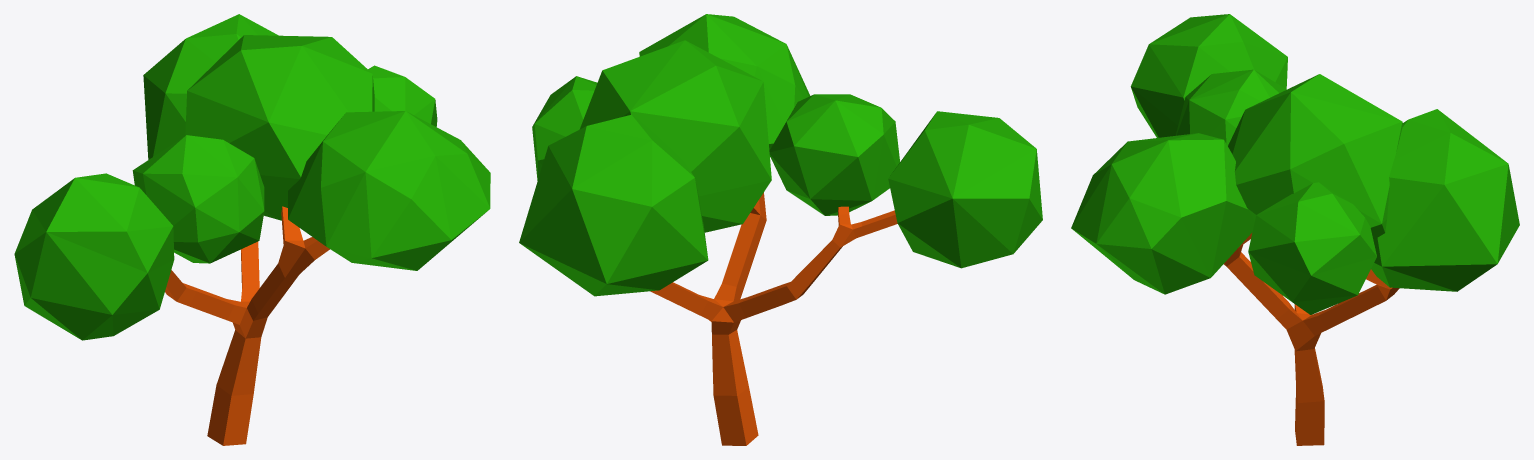
Rendered from DobreDrzewov1m2.fbx.
3 renders of one model, left to right at view 1: azimuth 30°, elevation 25°; view 2: azimuth 150°, elevation 25°; view 3: azimuth 270°, elevation 25°, orthographic. The views are drawn at different scales.
Visible parts, largest first — view 1: Kula ico.005, Kula ico, Kula ico.002, Kula ico.001, Kostka, Kula ico.003, Kula ico.004; view 2: Kula ico.003, Kula ico.002, Kula ico, Kula ico.001, Kostka, Kula ico.005, Kula ico.004; view 3: Kula ico.005, Kula ico.003, Kula ico.002, Kula ico.004, Kula ico, Kostka, Kula ico.001.
Boxes of the visible parts, x1=… form: Kula ico.005: x1=288, y1=111, x2=490, y2=270; Kula ico: x1=14, y1=173, x2=174, y2=340; Kula ico.002: x1=185, y1=35, x2=374, y2=220; Kula ico.001: x1=132, y1=135, x2=264, y2=263; Kostka: x1=165, y1=206, x2=329, y2=445; Kula ico.003: x1=143, y1=14, x2=278, y2=159; Kula ico.004: x1=368, y1=65, x2=437, y2=126; Kula ico.003: x1=519, y1=114, x2=708, y2=296; Kula ico.002: x1=579, y1=40, x2=771, y2=232; Kula ico: x1=888, y1=111, x2=1042, y2=268; Kula ico.001: x1=769, y1=94, x2=899, y2=215; Kostka: x1=650, y1=192, x2=897, y2=445; Kula ico.005: x1=639, y1=14, x2=810, y2=150; Kula ico.004: x1=532, y1=76, x2=597, y2=180; Kula ico.005: x1=1071, y1=133, x2=1254, y2=294; Kula ico.003: x1=1371, y1=109, x2=1519, y2=291; Kula ico.002: x1=1228, y1=74, x2=1403, y2=242; Kula ico.004: x1=1248, y1=182, x2=1376, y2=314; Kula ico: x1=1130, y1=14, x2=1287, y2=137; Kostka: x1=1224, y1=233, x2=1399, y2=445; Kula ico.001: x1=1175, y1=69, x2=1285, y2=145.
Bounding box in the file's own units: 1650 × 1314 × 1410.
